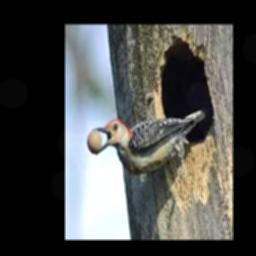Woodpecker: (92, 109, 205, 175)
